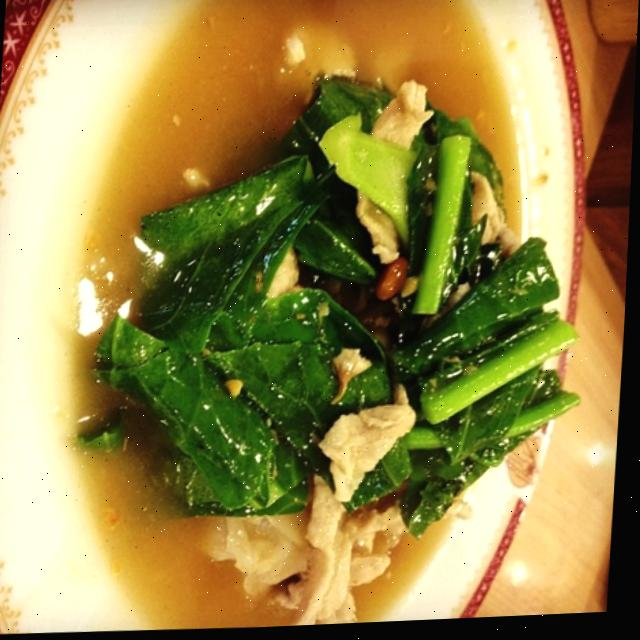面条主食: (28, 0, 629, 638)
